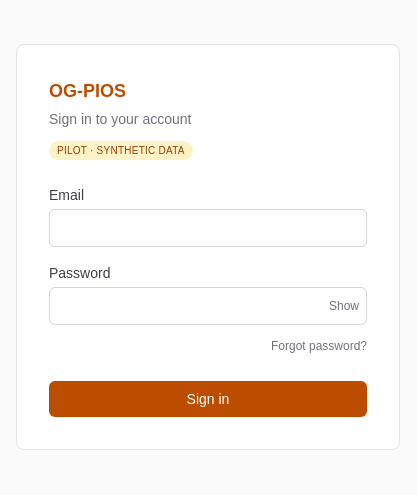
Test case: LoginPage › shows an error message when login fails
Step 1. Type "admin@ogpios.dev" into the field labelled "Email" → (208, 228), box [49,209,367,247]
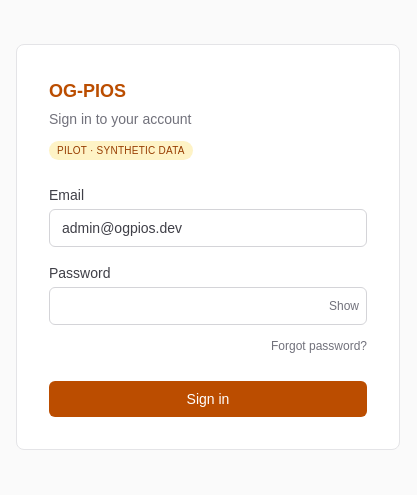
Step 2. Type "wrong" into the password field labelled "Password" → (208, 306), box [49,287,367,325]
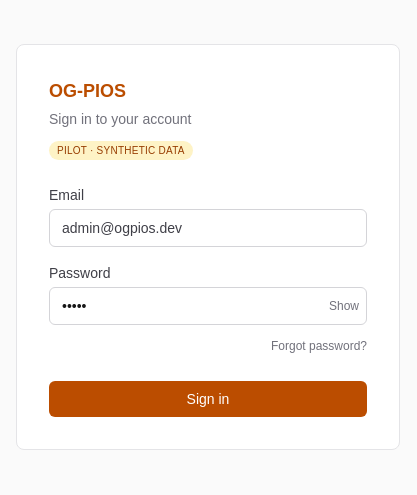
Step 3. Click the button "Sign in" → (208, 399), box [49,381,367,417]
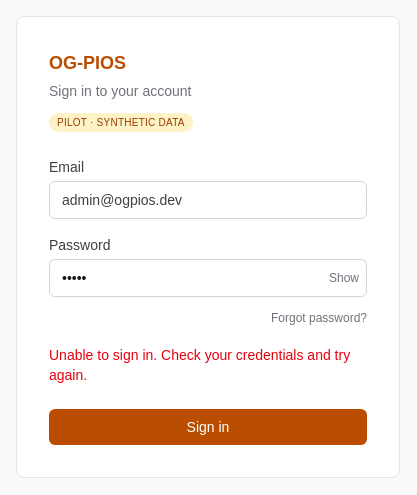
Now the text "Unable to sign in. Check your credentials and try again." is shown, box [49,345,367,385]
